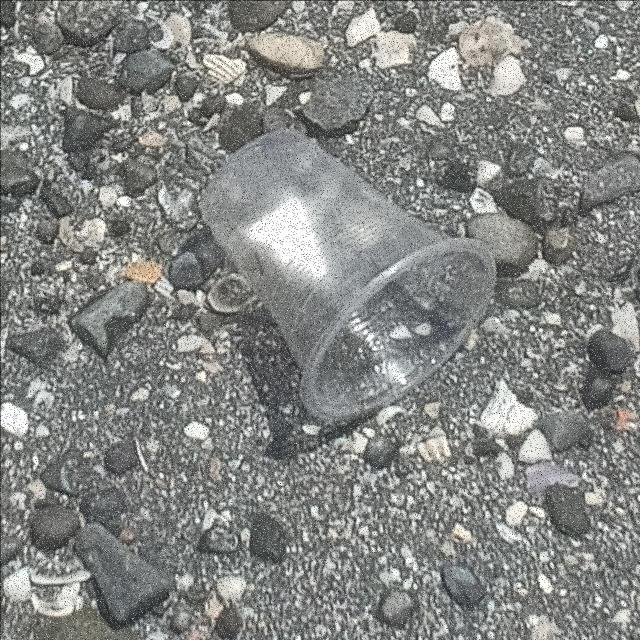plastic_waste: (197, 131, 497, 427)
